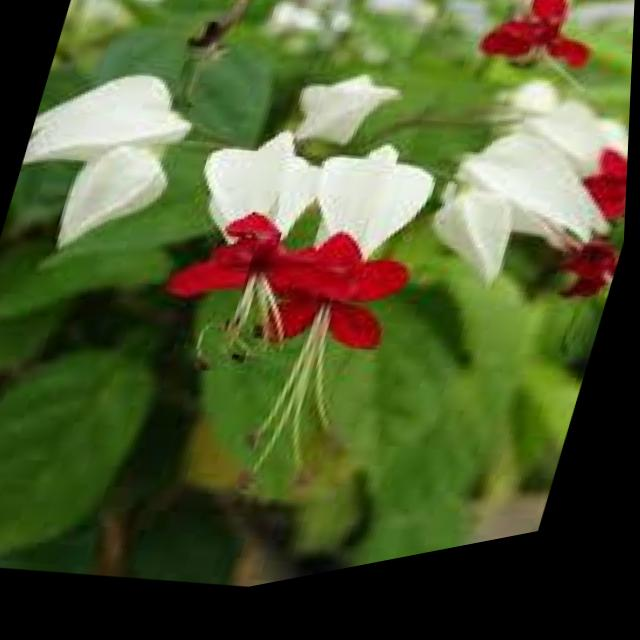Flower: (211, 130, 483, 540), (440, 65, 634, 316), (173, 122, 348, 391), (8, 50, 206, 263)
